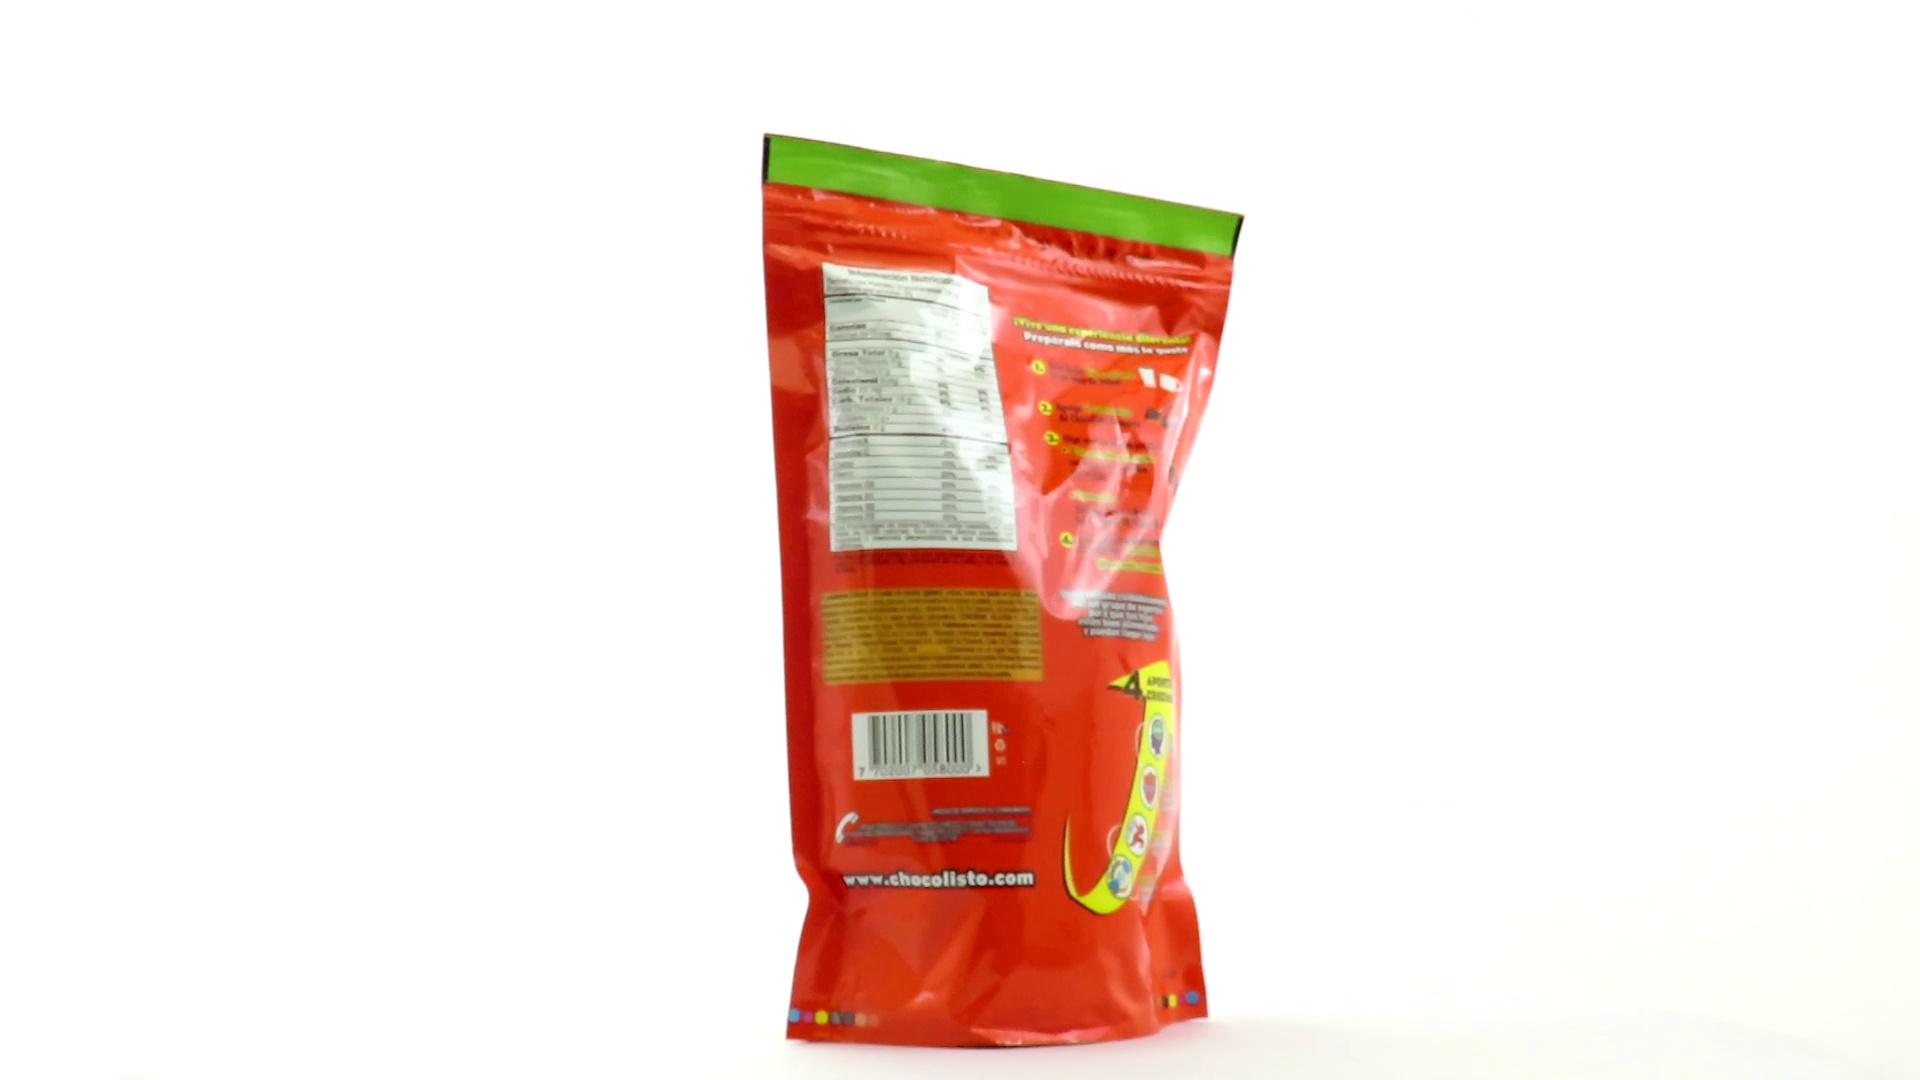COL0170102DYP50000: (756, 128, 1250, 1056)
